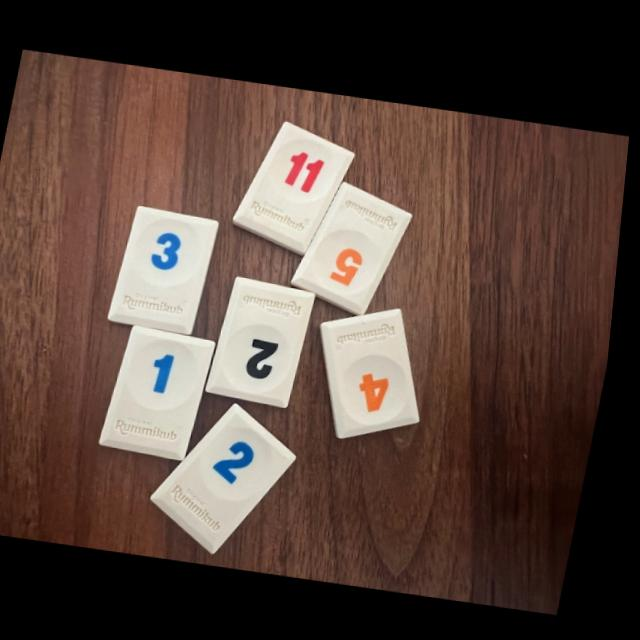black_2: (213, 274, 319, 405)
blue_1: (108, 324, 221, 458)
blue_2: (160, 401, 305, 551)
blue_3: (115, 204, 223, 332)
orange_4: (327, 305, 426, 435)
orange_5: (296, 179, 416, 312)
red_11: (237, 120, 357, 252)
